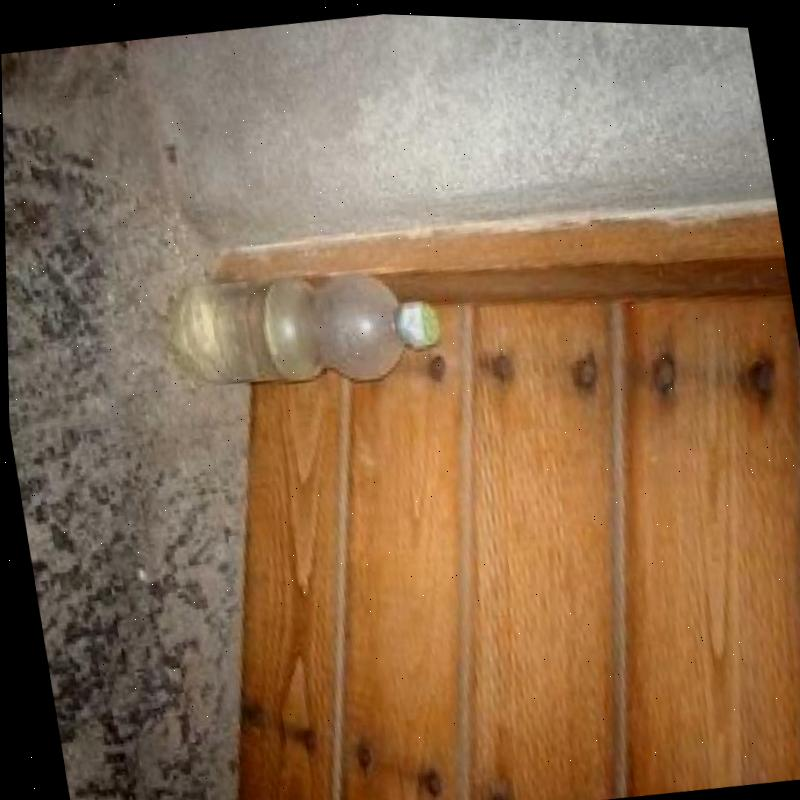botella: (169, 240, 441, 404)
